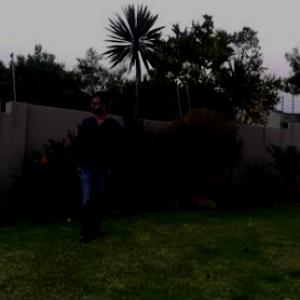follow: (65, 73, 128, 266)
